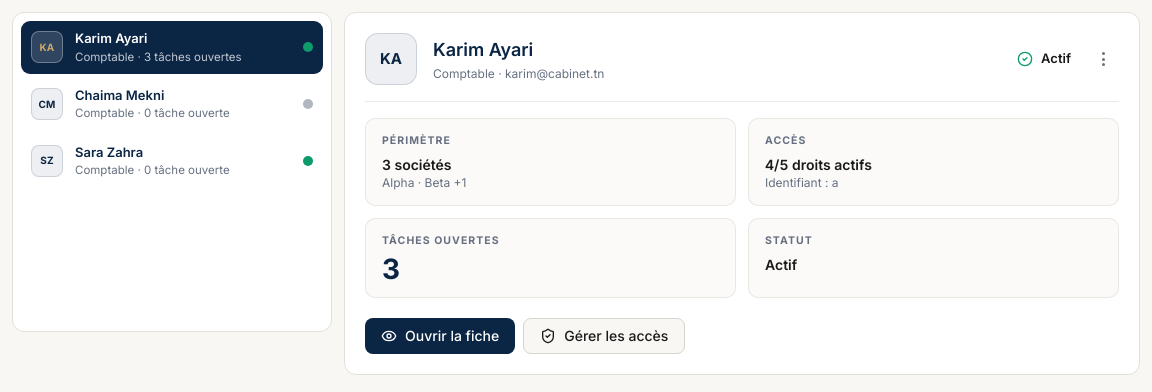
Registre des collaborateurs : liste et volet › choisir un autre collaborateur change le volet ; sans société, le périmètre le dit
Click the button "CM Chaima Mekni Comptable · 0 tâche ouverte" at (172, 104), box [21,78,323,131]
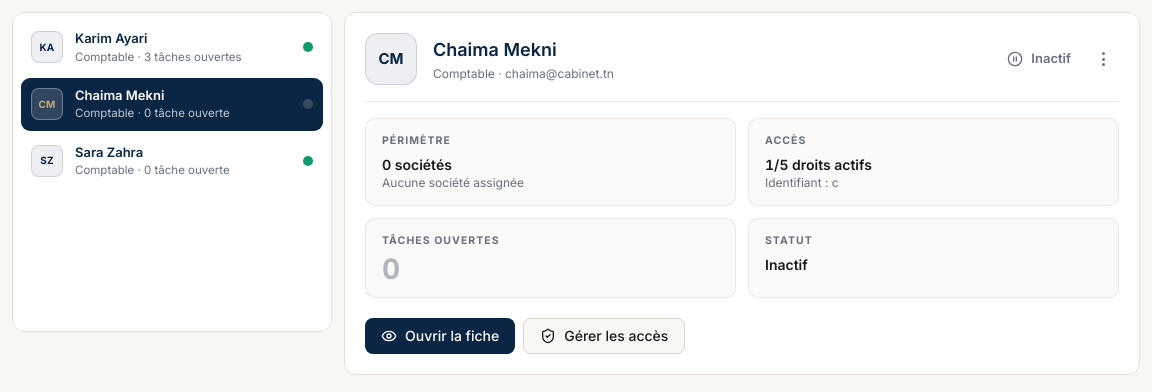
Now the text "0 sociétés" is shown, box [382,156,452,173]
Now the text "Aucune société assignée" is shown, box [382,175,524,190]
Now the text "Inactif" is shown, box [765,256,808,272]
